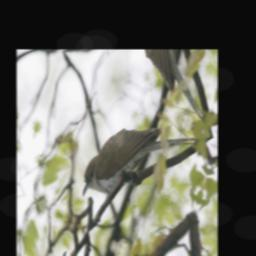Cuckoo: (77, 87, 199, 243)
